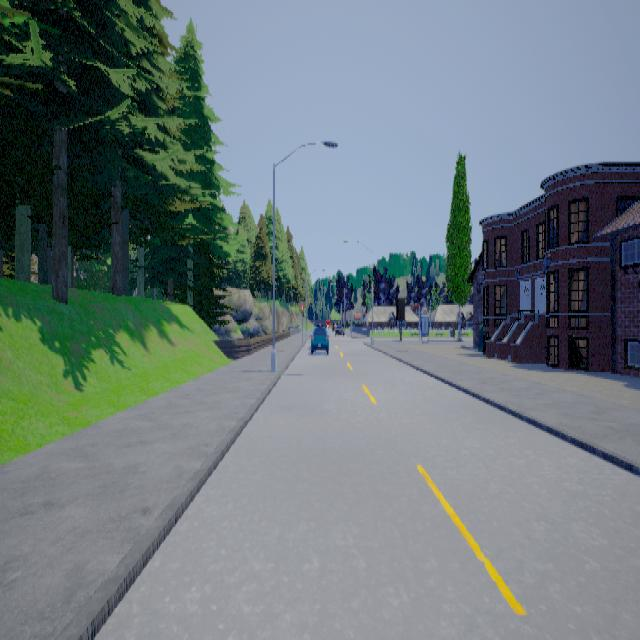vehicle: (311, 320, 331, 352)
